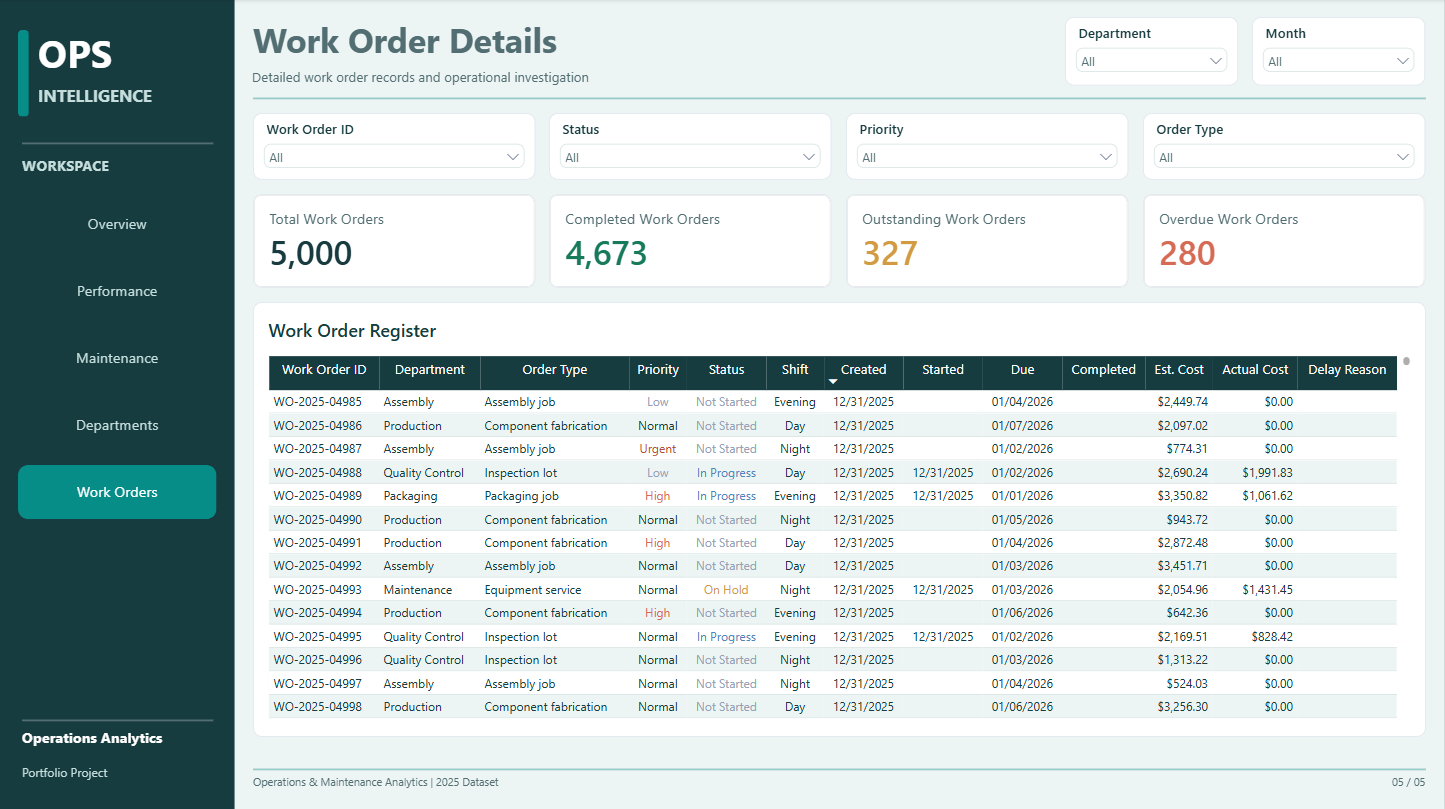

The page's visual inventory and layout, read from the dashboard file:
{"tool":"powerbi","page":{"name":"05 - Work Order Details","canvas":[1600,900],"ordinal":4},"visuals":[{"type":"shape","title":"shpSidebarBackground","box":[0,0,260,900],"z":0},{"type":"shape","title":"shpBrandAccent","box":[20,34,12,96],"z":1000},{"type":"textbox","title":"txtBrandTitle","box":[42,30,194,64],"z":2000},{"type":"textbox","title":"txtBrandSubtitle","box":[42,94,194,36],"z":3000},{"type":"shape","title":"shpSidebarDividerTop","box":[24,154,212,12],"z":4000},{"type":"textbox","title":"txtWorkspaceLabel","box":[24,174,212,36],"z":5000},{"type":"shape","title":"shpSidebarDividerBottom","box":[24,794,212,12],"z":6000},{"type":"textbox","title":"txtSidebarFooterTitle","box":[24,808,212,40],"z":7000},{"type":"textbox","title":"txtSidebarFooterSubtitle","box":[24,848,212,36],"z":8000},{"type":"textbox","title":"txtPageTitle","box":[280,20,880,60],"z":9000},{"type":"textbox","title":"txtPageSubtitle","box":[279.4,76.3,748.9,31],"z":10000},{"type":"shape","title":"shpHeaderDivider","box":[280,104,1300,12],"z":11000},{"type":"shape","title":"shpFooterDivider","box":[280,848,1300,12],"z":12000},{"type":"textbox","title":"txtFooterDescription","box":[280,858,1060,32],"z":13000},{"type":"textbox","title":"txtPageNumber","box":[1400,858,180,32],"z":14000},{"type":"actionButton","title":"btnNavWorkOrders","box":[20,516,220,60],"z":15000},{"type":"actionButton","title":"btnNavDepartments","box":[20,442,220,60],"z":16000},{"type":"actionButton","title":"btnNavMaintenance","box":[20,368,220,60],"z":17000},{"type":"actionButton","title":"btnNavPerformance","box":[20,294,220,60],"z":18000},{"type":"actionButton","title":"btnNavOverview","box":[20,220,220,60],"z":19000},{"type":"slicer","title":"slcDepartment","fields":{"Values":["Departments.Department"]},"box":[1180,20,192,76],"z":20000},{"type":"slicer","title":"slcMonth","fields":{"Values":["Calendar.Month Year"]},"box":[1388,20,192,76],"z":21000},{"type":"slicer","fields":{"Values":["Work Orders.Work Order ID"]},"box":[280,126,313,74],"z":22000},{"type":"slicer","fields":{"Values":["Work Orders.Status"]},"box":[609,126,313,74],"z":23000},{"type":"slicer","fields":{"Values":["Work Orders.Priority"]},"box":[938,126,313,74],"z":24000},{"type":"slicer","fields":{"Values":["Work Orders.Order Type"]},"box":[1267,126,313,74],"z":25000},{"type":"cardVisual","fields":{"Data":["_Measures.Total Work Orders"]},"box":[280,216,313,104],"z":26000},{"type":"cardVisual","fields":{"Data":["_Measures.Completed Work Orders"]},"box":[609,216,313,104],"z":27000},{"type":"cardVisual","fields":{"Data":["_Measures.Outstanding Work Orders"]},"box":[938,216,313,104],"z":28000},{"type":"cardVisual","fields":{"Data":["_Measures.Overdue Work Orders"]},"box":[1267,216,313,104],"z":29000},{"type":"tableEx","title":"Work Order Register","fields":{"Values":["Work Orders.Work Order ID","Departments.Department","Work Orders.Order Type","Work Orders.Priority","Work Orders.Status","Work Orders.Shift","Work Orders.Created Date","Work Orders.Start Date","Work Orders.Due Date","Work Orders.Completed Date","Sum(Work Orders.Estimated Cost)","Sum(Work Orders.Actual Cost)"]},"box":[280,336,1300,482],"z":30000}]}

Visuals, with their boxes in screenshot pixels (x1, y1, x2, y2), scaled from the page's 1600x900 canvas onto the 1445x809 screenshot:
"shpSidebarBackground" shape: Rect(0, 0, 235, 808)
"shpBrandAccent" shape: Rect(18, 31, 29, 117)
"txtBrandTitle" textbox: Rect(38, 27, 213, 84)
"txtBrandSubtitle" textbox: Rect(38, 84, 213, 117)
"shpSidebarDividerTop" shape: Rect(22, 138, 213, 149)
"txtWorkspaceLabel" textbox: Rect(22, 156, 213, 189)
"shpSidebarDividerBottom" shape: Rect(22, 714, 213, 725)
"txtSidebarFooterTitle" textbox: Rect(22, 726, 213, 762)
"txtSidebarFooterSubtitle" textbox: Rect(22, 762, 213, 795)
"txtPageTitle" textbox: Rect(253, 18, 1048, 72)
"txtPageSubtitle" textbox: Rect(252, 69, 929, 96)
"shpHeaderDivider" shape: Rect(253, 93, 1427, 104)
"shpFooterDivider" shape: Rect(253, 762, 1427, 773)
"txtFooterDescription" textbox: Rect(253, 771, 1210, 800)
"txtPageNumber" textbox: Rect(1264, 771, 1427, 800)
"btnNavWorkOrders" actionButton: Rect(18, 464, 217, 518)
"btnNavDepartments" actionButton: Rect(18, 397, 217, 451)
"btnNavMaintenance" actionButton: Rect(18, 331, 217, 385)
"btnNavPerformance" actionButton: Rect(18, 264, 217, 318)
"btnNavOverview" actionButton: Rect(18, 198, 217, 252)
"slcDepartment" slicer: Rect(1066, 18, 1239, 86)
"slcMonth" slicer: Rect(1254, 18, 1427, 86)
slicer - Work Orders.Work Order ID: Rect(253, 113, 536, 180)
slicer - Work Orders.Status: Rect(550, 113, 833, 180)
slicer - Work Orders.Priority: Rect(847, 113, 1130, 180)
slicer - Work Orders.Order Type: Rect(1144, 113, 1427, 180)
cardVisual - _Measures.Total Work Orders: Rect(253, 194, 536, 288)
cardVisual - _Measures.Completed Work Orders: Rect(550, 194, 833, 288)
cardVisual - _Measures.Outstanding Work Orders: Rect(847, 194, 1130, 288)
cardVisual - _Measures.Overdue Work Orders: Rect(1144, 194, 1427, 288)
"Work Order Register" tableEx: Rect(253, 302, 1427, 735)
